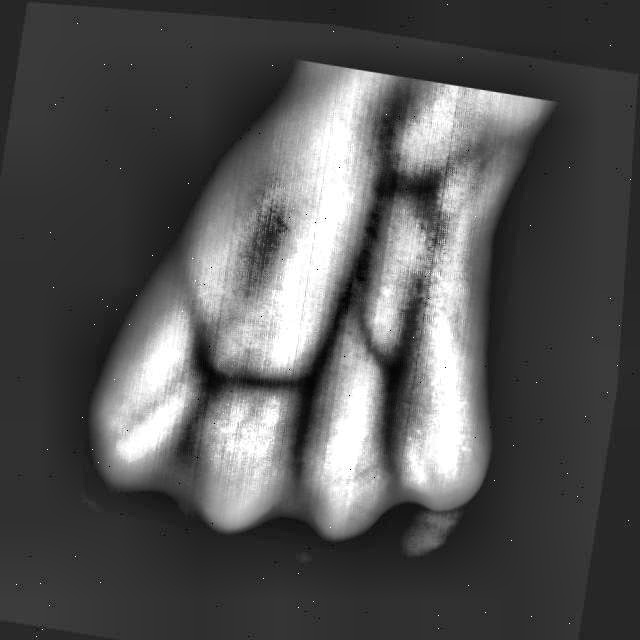Vein: (304, 160, 405, 368)
